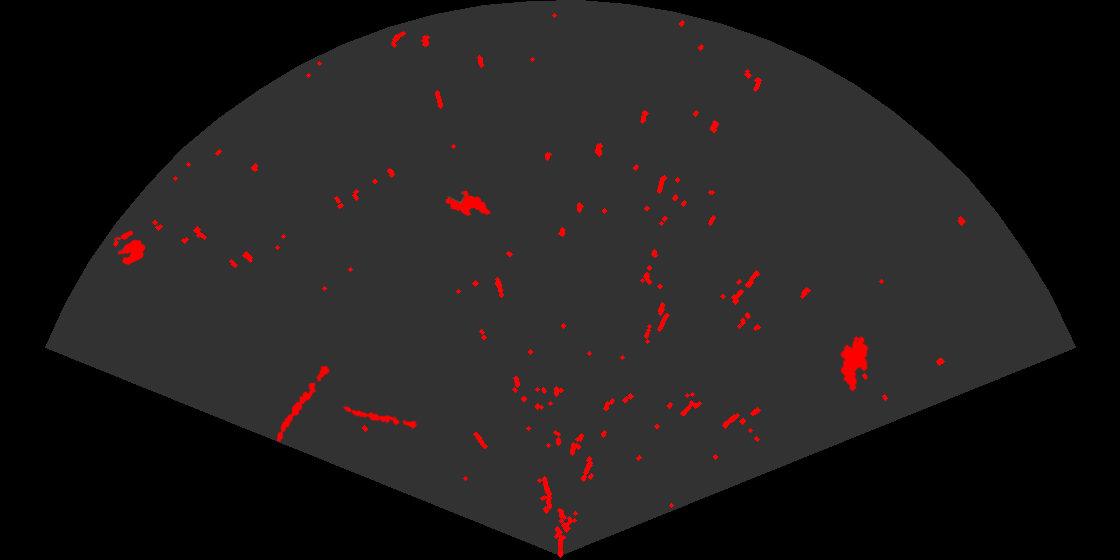AUV: (839, 334, 870, 393), (444, 189, 492, 217)
ball: (112, 229, 147, 266)
chain: (275, 364, 332, 443), (341, 404, 418, 431)
